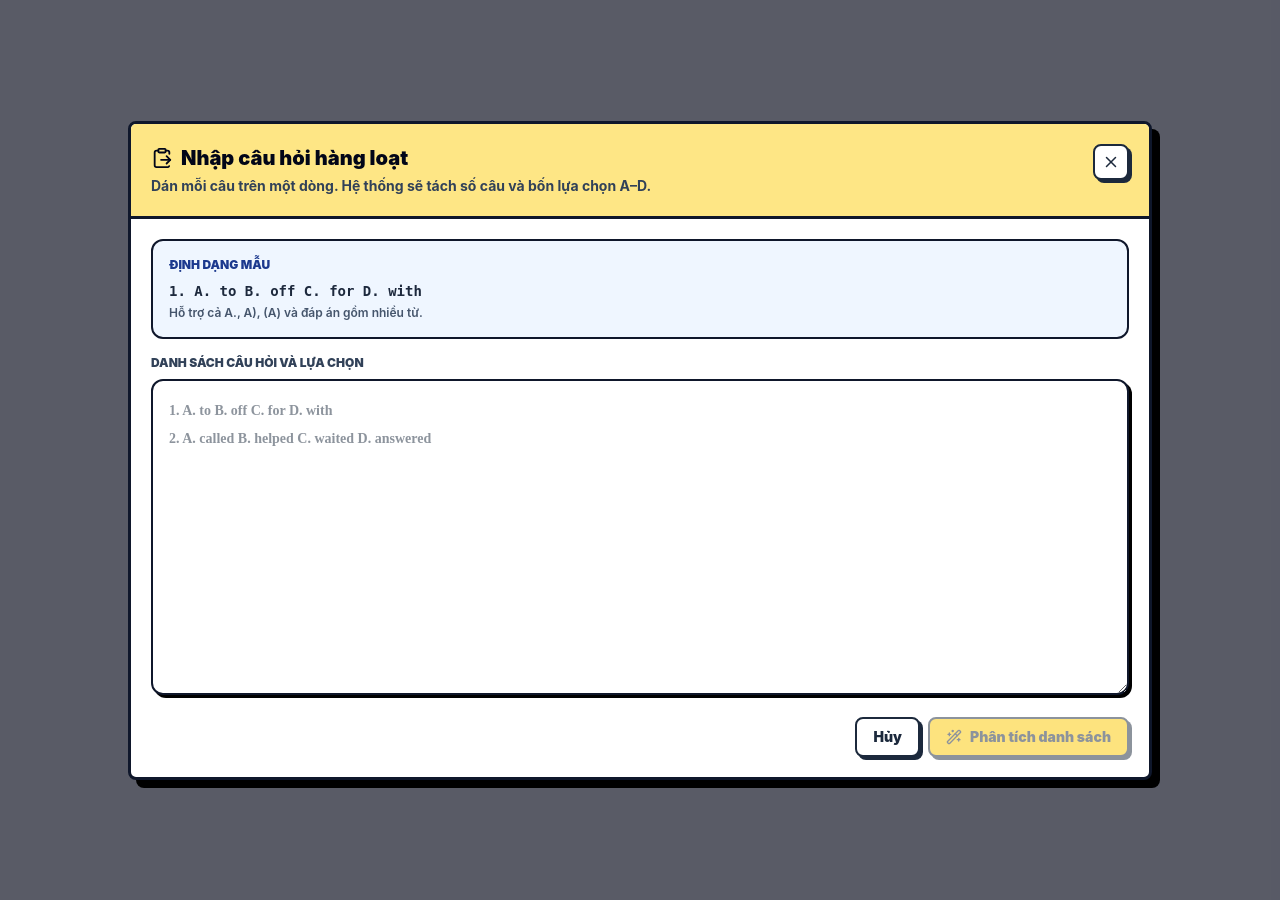
Test case: BulkQuestionImportModal › blocks importing when a line cannot be parsed
Replace the text in the text box labelled "Danh sách câu hỏi và lựa chọn" with "1. A. one B. two" at {"x": 640, "y": 536}, box [151,378,1129,694]
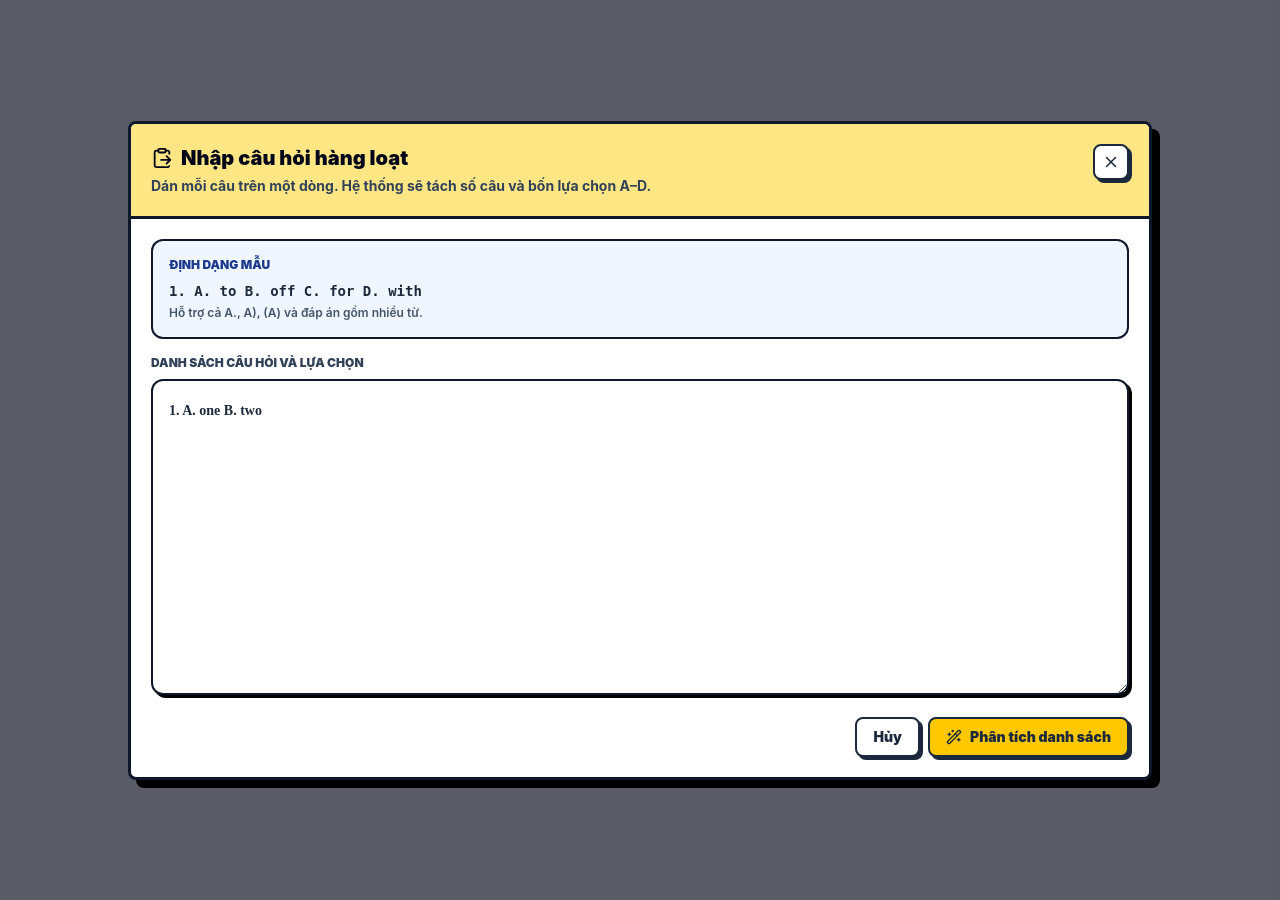
Click the button "Phân tích danh sách".
click(1028, 736)  # box [928,716,1129,756]
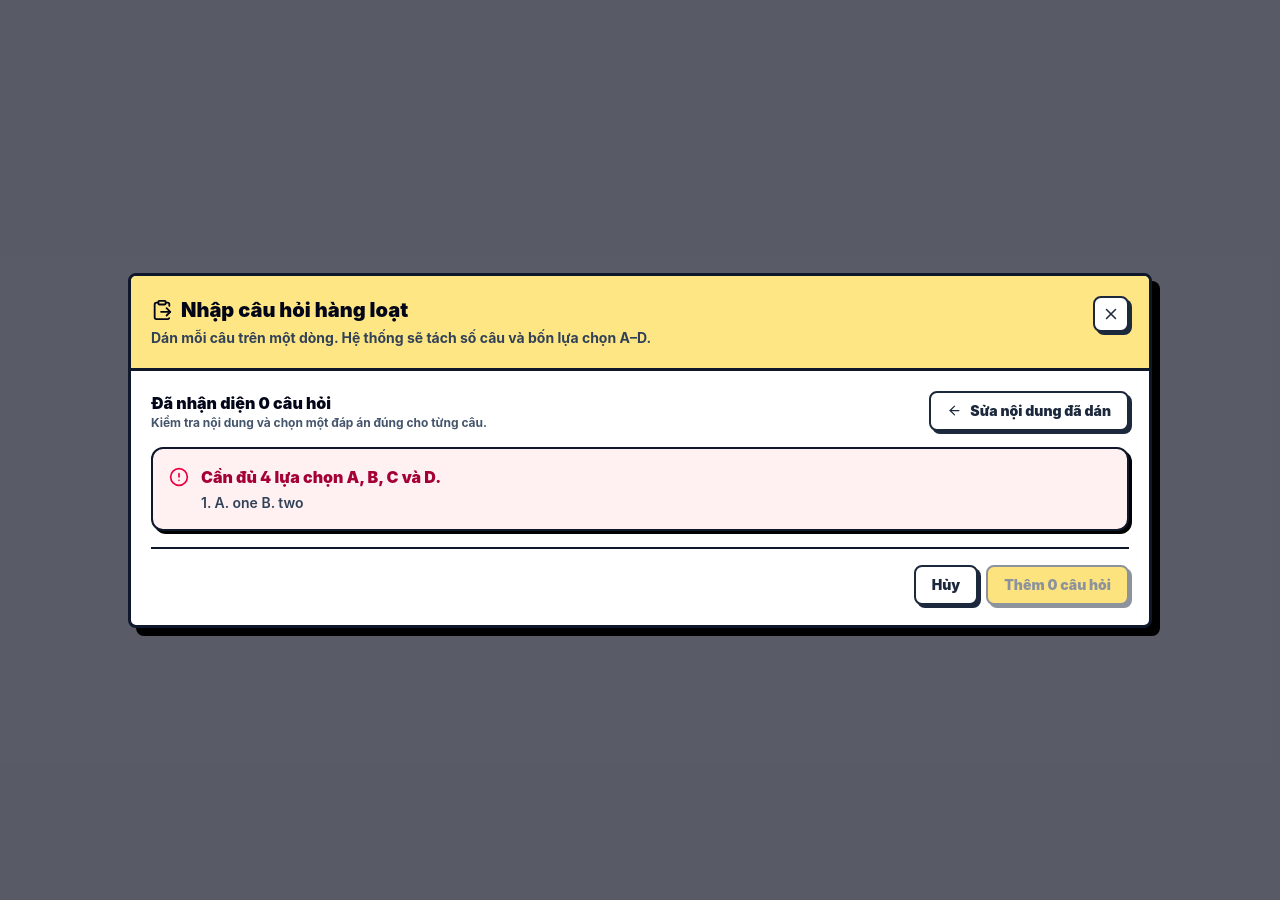
Now the text "Cần đủ 4 lựa chọn A, B, C và D." is shown, box [201,464,441,488]
Now the button "Thêm 0 câu hỏi" is disabled, box [986,564,1129,604]
